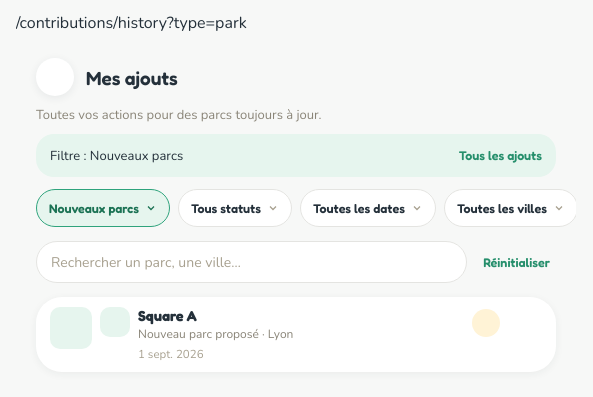
ContributionsHistory — filtres dans l'URL › « Tous les ajouts » retire le filtre de l'URL et réaffiche tout
Expected: the text "Square A" is shown, 138,307 -> 197,325
Click the button "Tous les ajouts" at [500, 156], box 459,144 -> 542,167
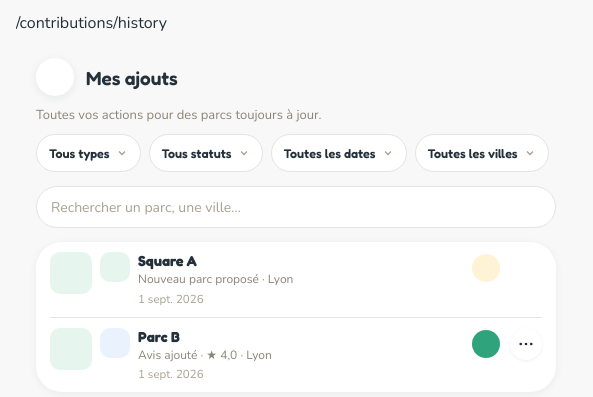
Expected: the text with test id "url" reads "/contributions/history", 16,12 -> 167,34
Expected: the text "Parc B" is shown, 138,328 -> 180,346
